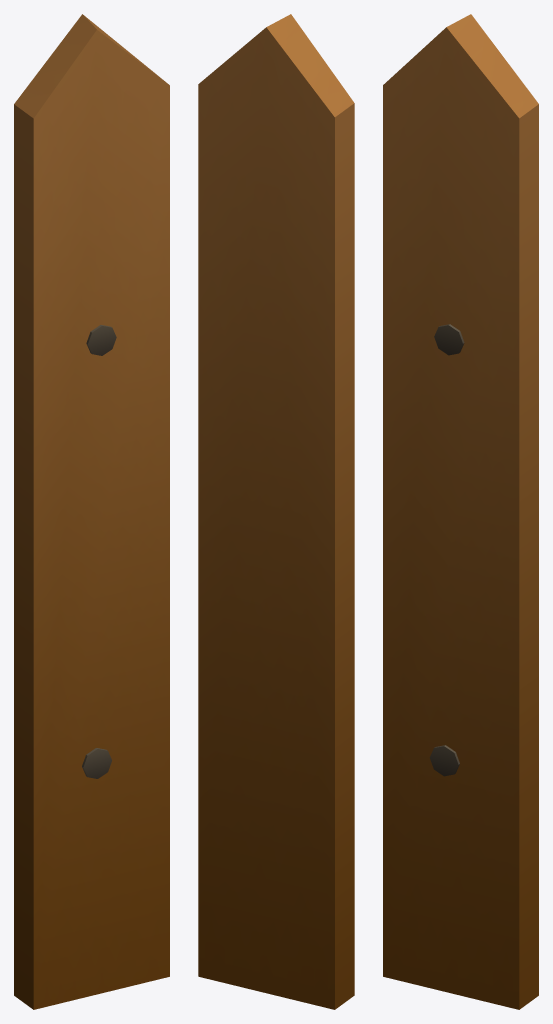
File: Fence_Bit_D.fbx
3 views of the same model, side by side, from view 1: azimuth 30°, elevation 25°; view 2: azimuth 150°, elevation 25°; view 3: azimuth 330°, elevation 25° (orthographic).
Visible parts, largest first — view 1: Fence_Bit_D; view 2: Fence_Bit_D; view 3: Fence_Bit_D.
Part boxes in pixels (<box>): Fence_Bit_D: <box>14,14,169,1009</box>; Fence_Bit_D: <box>198,14,354,1009</box>; Fence_Bit_D: <box>383,14,538,1009</box>.
Bounding box in the file's own units: 16 × 108 × 4.3.
